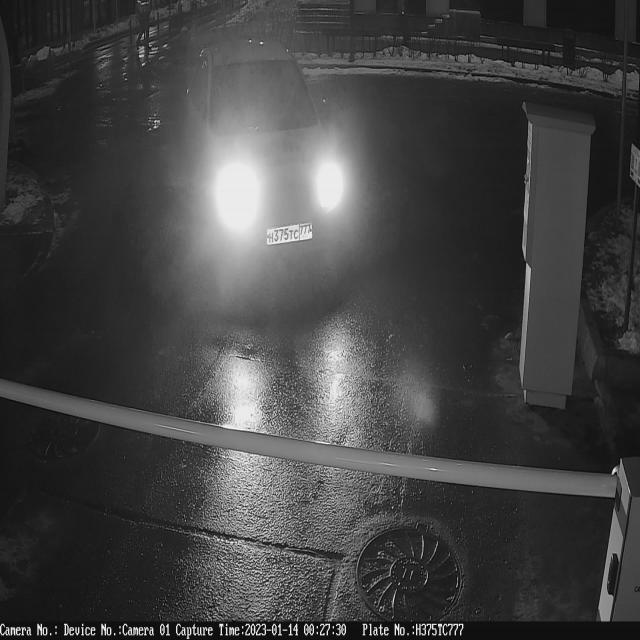car-plate-numbers: (266, 223, 319, 256)
